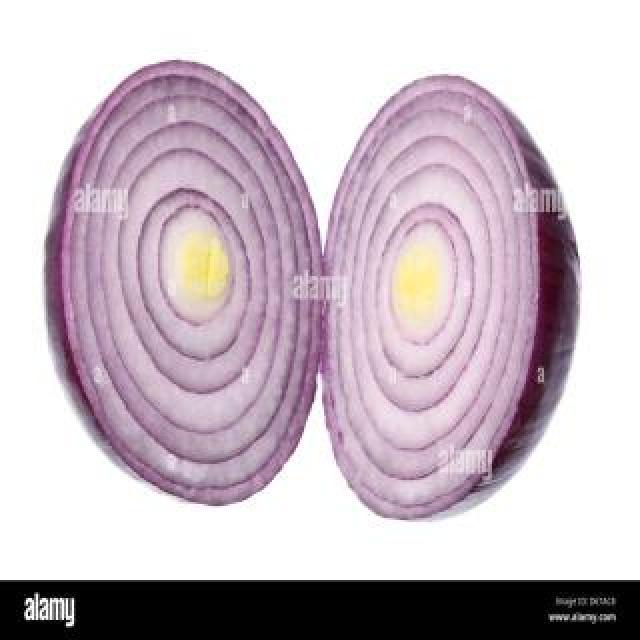Wet: (44, 60, 324, 503), (322, 72, 583, 525)
